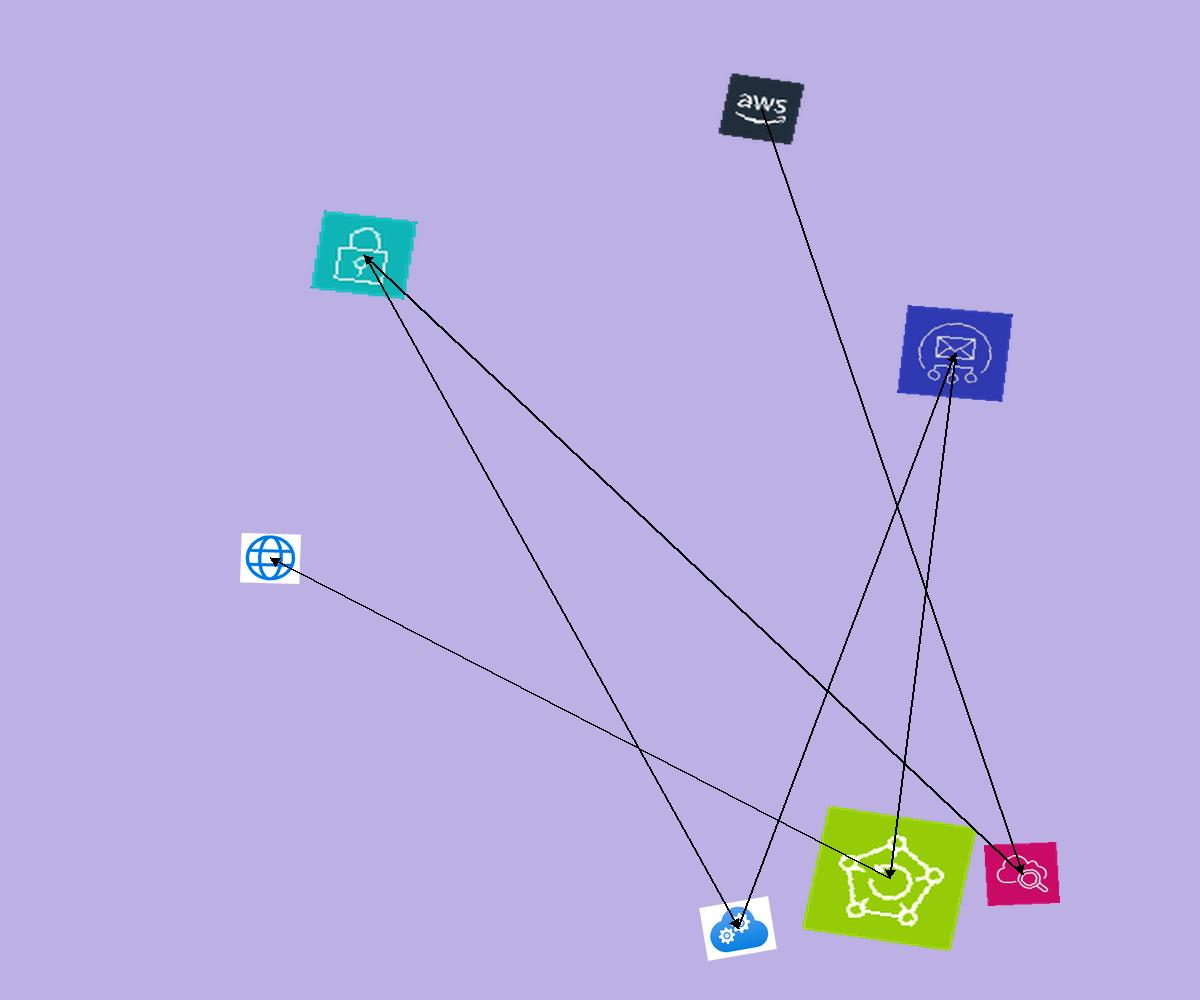AWS-Backup: (801, 805, 978, 952)
AWS-Cloud-logo: (717, 72, 806, 146)
AWS-CloudWatch: (984, 842, 1060, 906)
AWS-Private-subnet: (310, 210, 418, 300)
AWS-Simple-Email-Service: (897, 305, 1013, 402)
Azure_cloud_services: (699, 896, 777, 961)
Azure_http: (240, 533, 301, 584)
